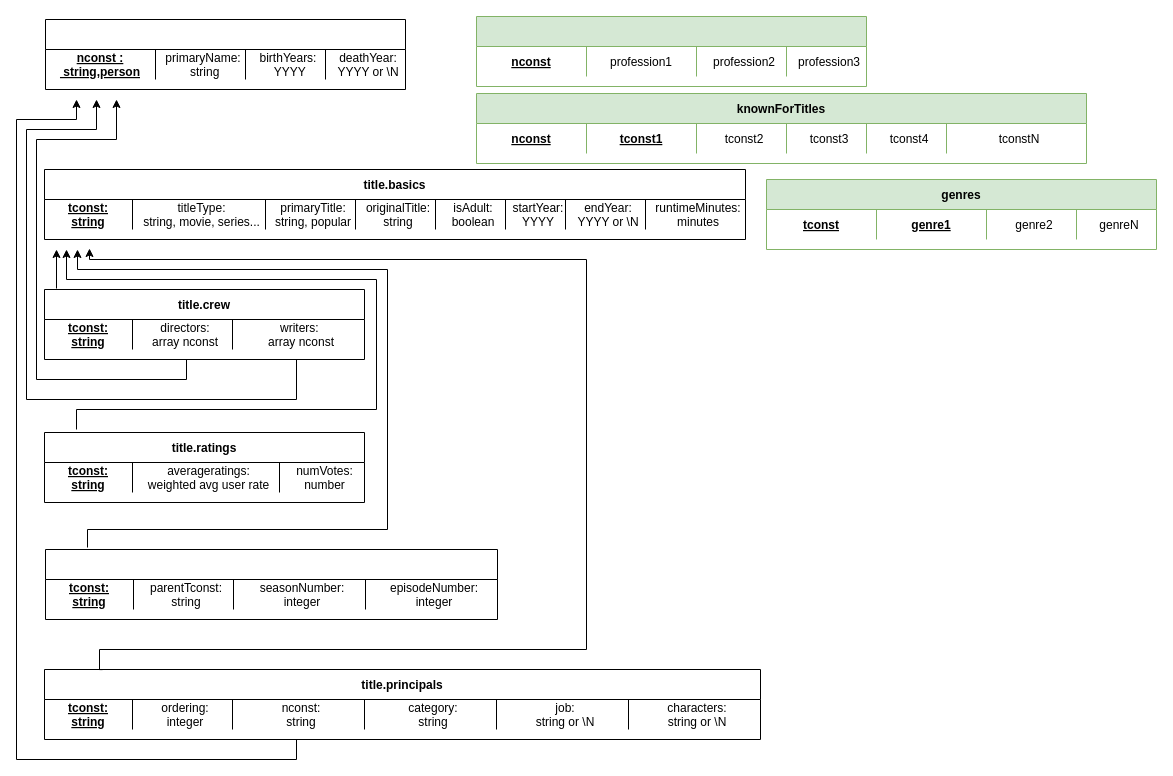
Image size: 1173x776. Some labels were removed from this diagram. Here are the shapes that lost their labels. From the top down, the box of each, then its label:
(44, 18, 406, 90): name.basics
(476, 16, 866, 86): primaryProfession
(44, 548, 498, 620): title.episode
